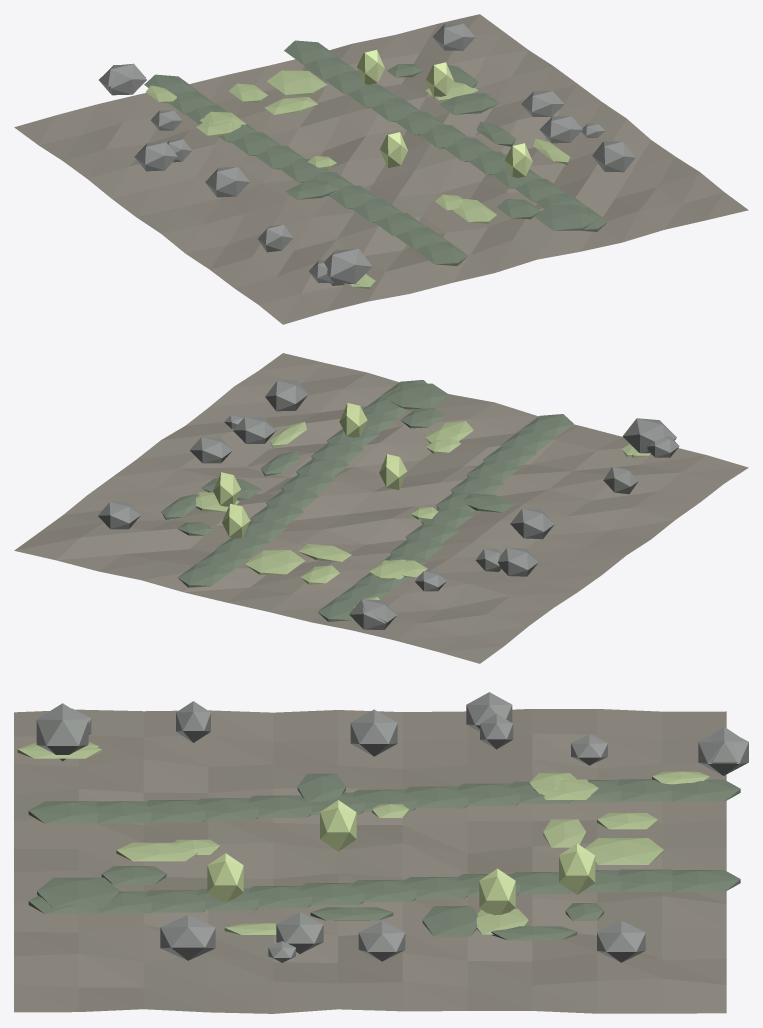
The model's file is hunger_claimed_road.glb.
3 views of the same model, one above another, from view 1: azimuth 30°, elevation 25°; view 2: azimuth 150°, elevation 25°; view 3: azimuth 270°, elevation 25° (orthographic). The views are drawn at different scales.
Visible parts, largest first — view 1: material_00, material_01, material_02, material_03, material_04; view 2: material_00, material_01, material_02, material_03, material_04; view 3: material_00, material_01, material_02, material_03, material_04.
Part boxes in pixels (<box>): material_00: <box>14,14,748,324</box>; material_01: <box>144,40,607,265</box>; material_02: <box>99,23,635,285</box>; material_03: <box>146,70,570,289</box>; material_04: <box>357,50,532,177</box>; material_00: <box>14,353,748,663</box>; material_01: <box>161,380,573,621</box>; material_02: <box>98,380,679,629</box>; material_03: <box>195,421,650,607</box>; material_04: <box>213,403,407,538</box>; material_00: <box>14,709,726,1013</box>; material_01: <box>28,773,740,940</box>; material_02: <box>36,692,748,962</box>; material_03: <box>17,742,709,935</box>; material_04: <box>207,800,595,915</box>.
Size of the model in its own units: 3 by 0.297 by 3.09.
